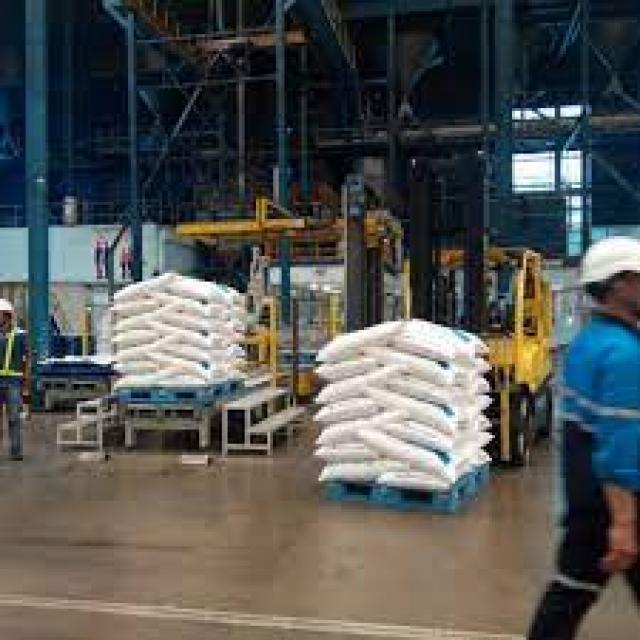Reflective-Jacket: (543, 313, 640, 614), (0, 327, 31, 392)
Safety-Helmet: (566, 228, 640, 304), (0, 296, 17, 318)
